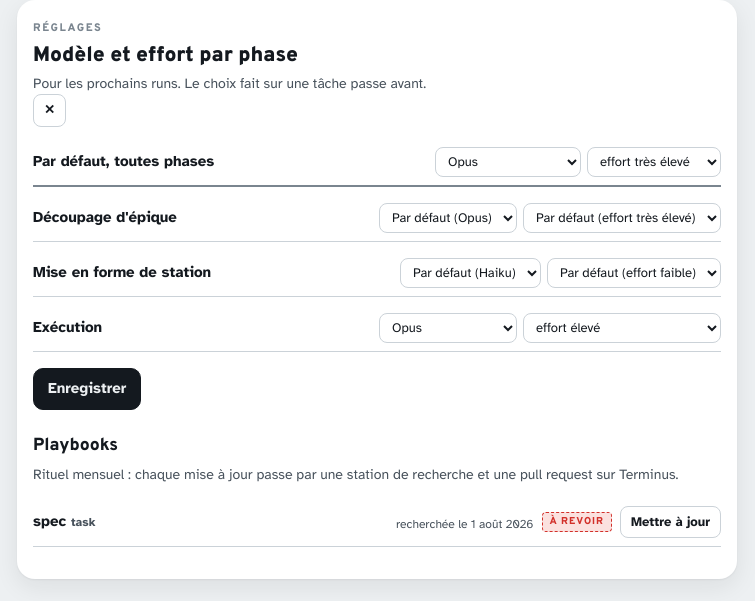
Test case: AgentSettings › edits the global default and each agent phase, and saves them together
Expected: the dropdown named "Modèle · Découpage d'épique" shows "Par défaut (Opus)", [379,203,517,233]
Expected: the dropdown named "Effort · Mise en forme de station" shows "Par défaut (effort faible)", [547,258,721,288]
Select "Sonnet" in the dropdown named "Modèle · Par défaut, toutes phases": [508, 162] box [435,147,581,177]
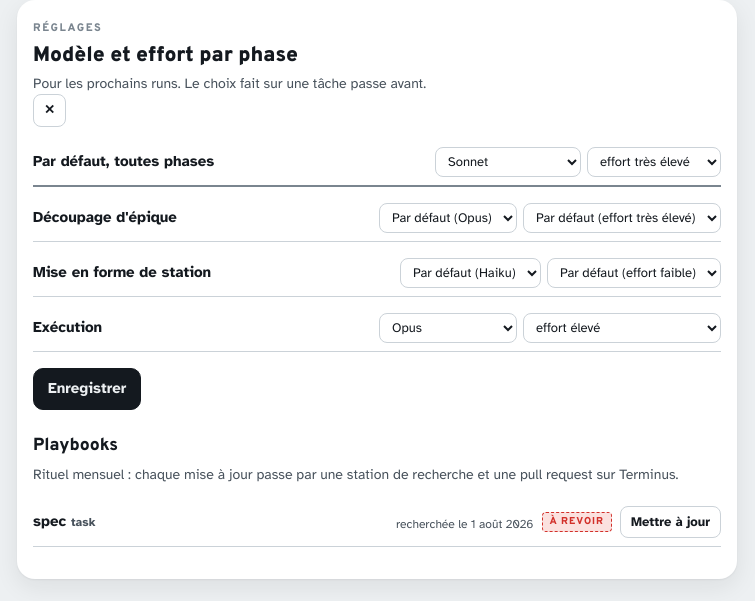
Select "Haiku" in the dropdown named "Modèle · Découpage d'épique": [448, 218] box [379,203,517,233]
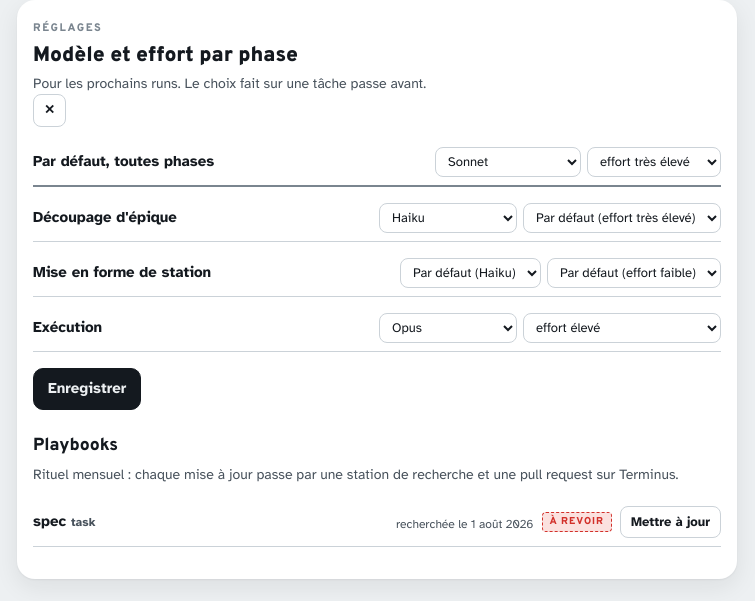
Click the button "Enregistrer": [87, 389] box [33,368,141,410]
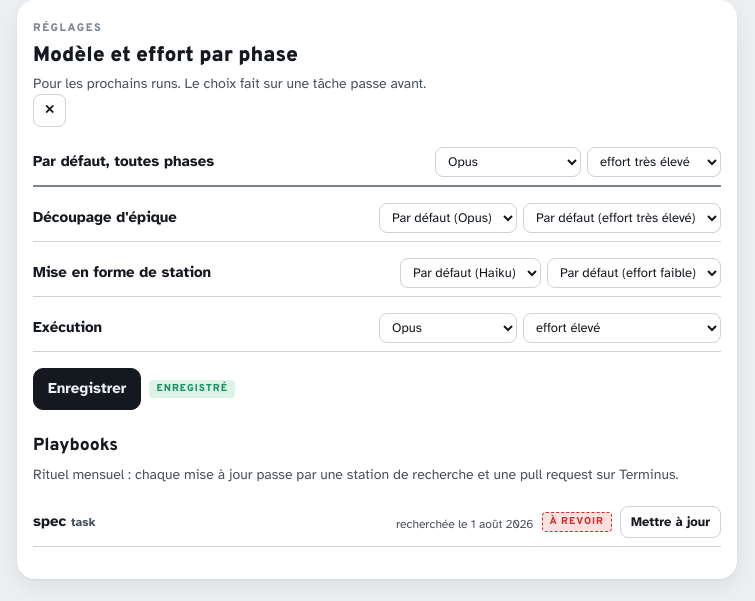
Now the message reads "Enregistré", box [156,382,228,395]
